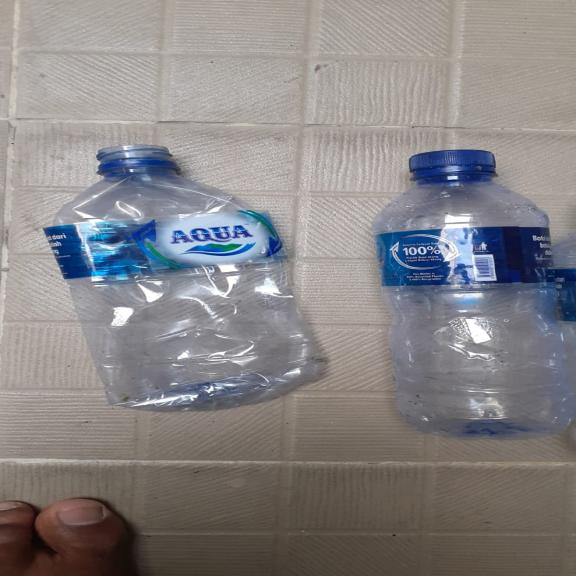Plastik: (41, 145, 332, 413), (367, 148, 576, 441)
